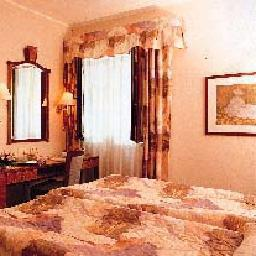Cama: (2, 180, 254, 253)
Ventana: (78, 52, 150, 145)
